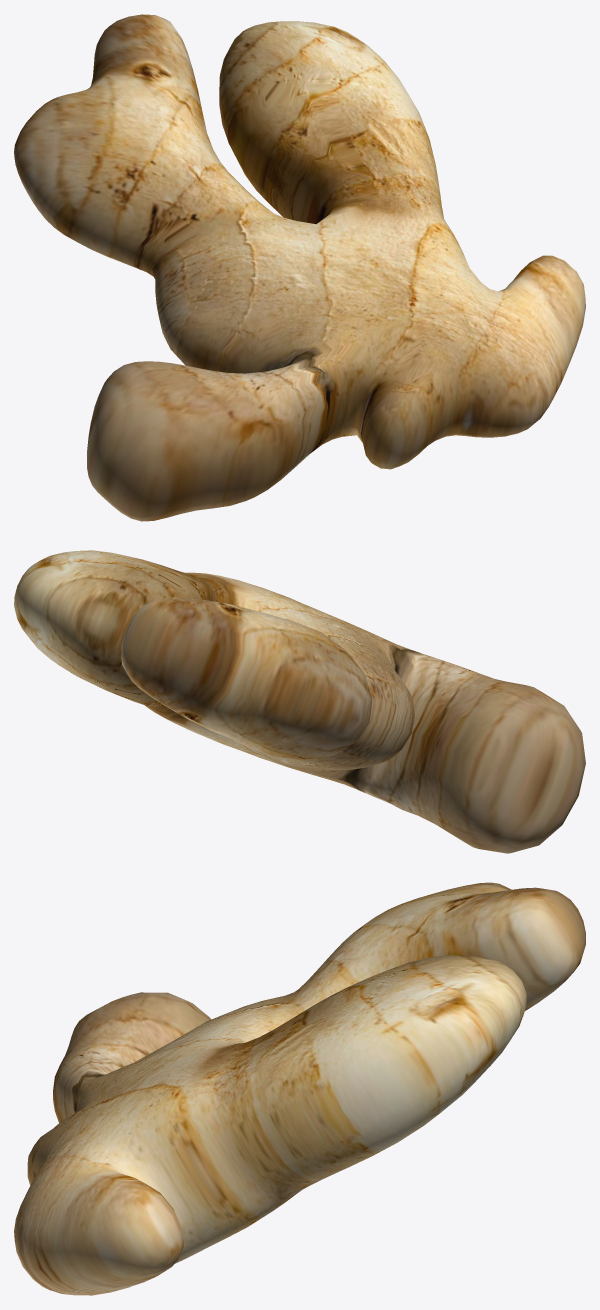
The model's file is jahe_r.glb.
3 renders of one model, top to bottom at view 1: azimuth 30°, elevation 25°; view 2: azimuth 150°, elevation 25°; view 3: azimuth 270°, elevation 25°, orthographic. The views are drawn at different scales.
Visible parts, largest first — view 1: Cube; view 2: Cube; view 3: Cube.
Part boxes in pixels (x1=…): Cube: x1=14, y1=14, x2=585, y2=521; Cube: x1=14, y1=550, x2=585, y2=853; Cube: x1=14, y1=882, x2=585, y2=1295.
Size of the model in its own units: 0.1617 by 0.1058 by 0.1519.
Materials: 1 (1 with a texture image).
